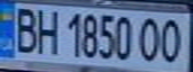0: (115, 12, 136, 61)
1: (60, 9, 84, 57)
5: (97, 11, 118, 61)
8: (78, 10, 100, 60)
B: (9, 3, 42, 54)
H: (33, 6, 60, 55)
O: (157, 16, 187, 64), (136, 15, 163, 63)
